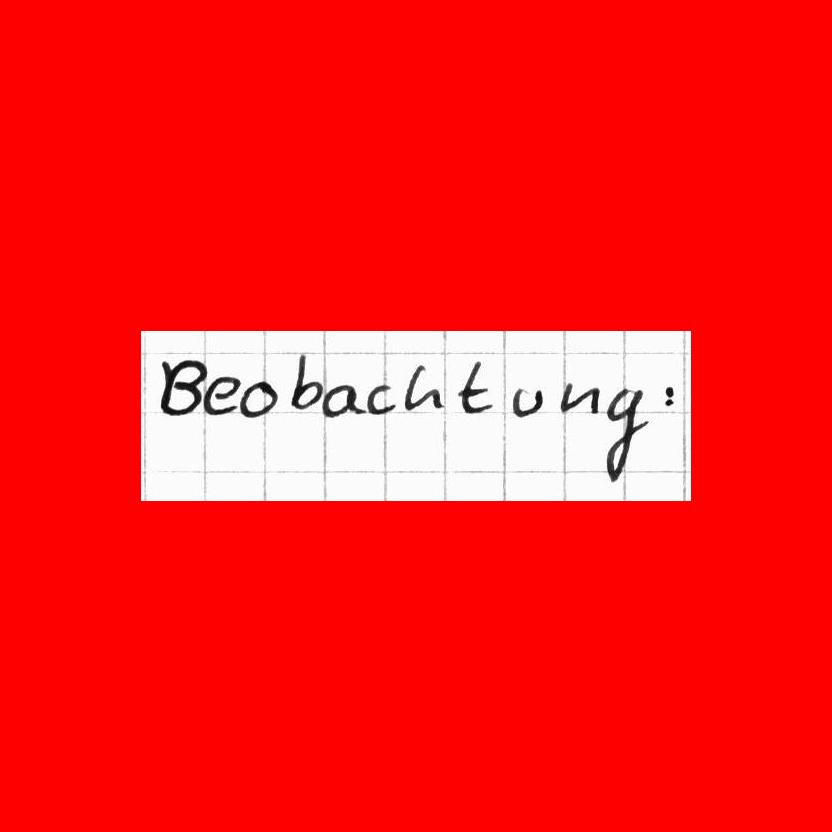Char: (600, 382, 649, 483), (158, 354, 206, 419), (456, 356, 493, 416), (403, 360, 443, 414), (289, 351, 322, 414), (240, 376, 280, 419), (201, 374, 240, 417), (559, 380, 600, 415), (323, 383, 359, 421), (508, 383, 544, 420), (365, 380, 395, 416), (659, 381, 678, 410)
